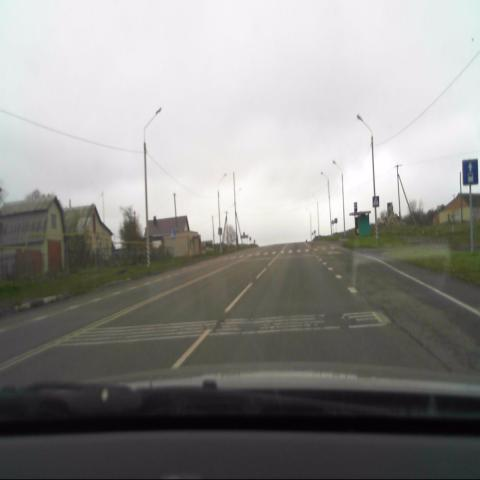5_14: (462, 157, 479, 184)
